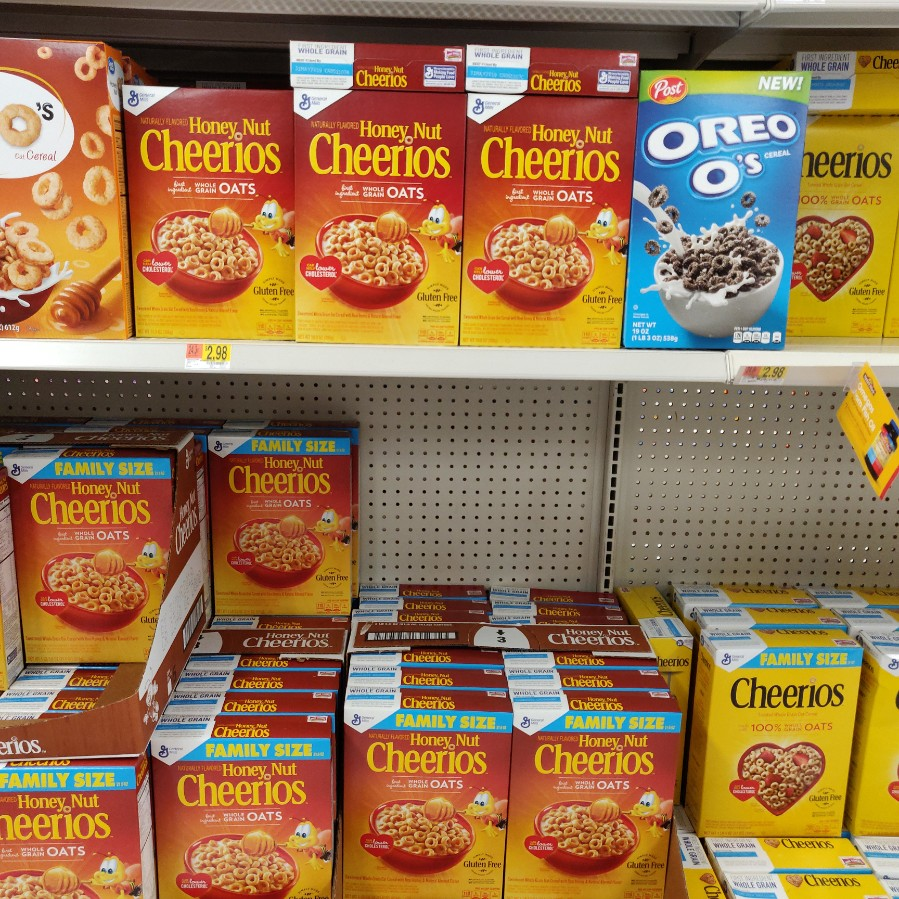Oreo-563424384: (623, 68, 814, 347)
